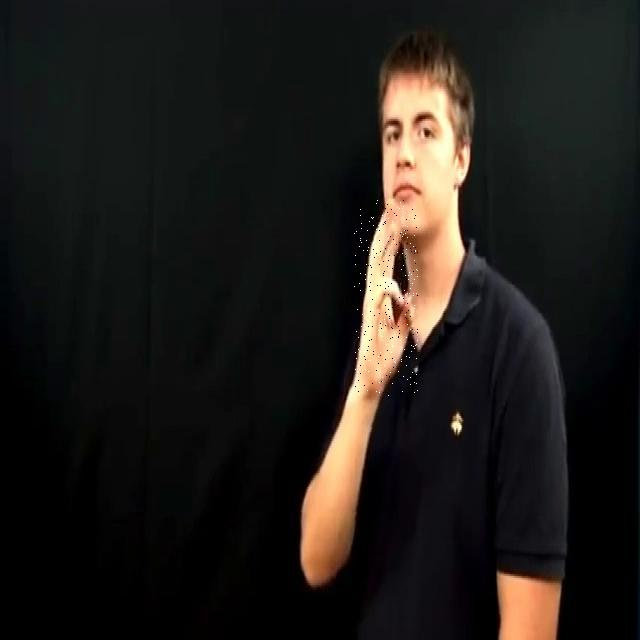water: (354, 200, 418, 396)
